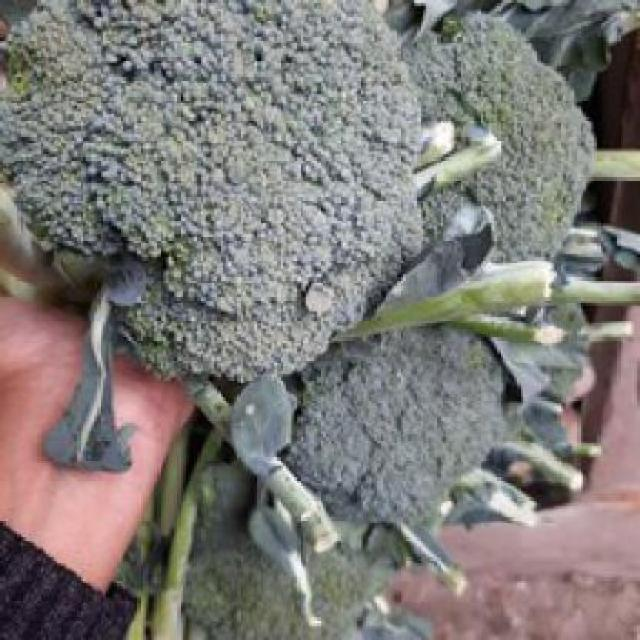broccoli: (17, 2, 414, 356), (266, 320, 532, 520), (434, 8, 597, 292)
